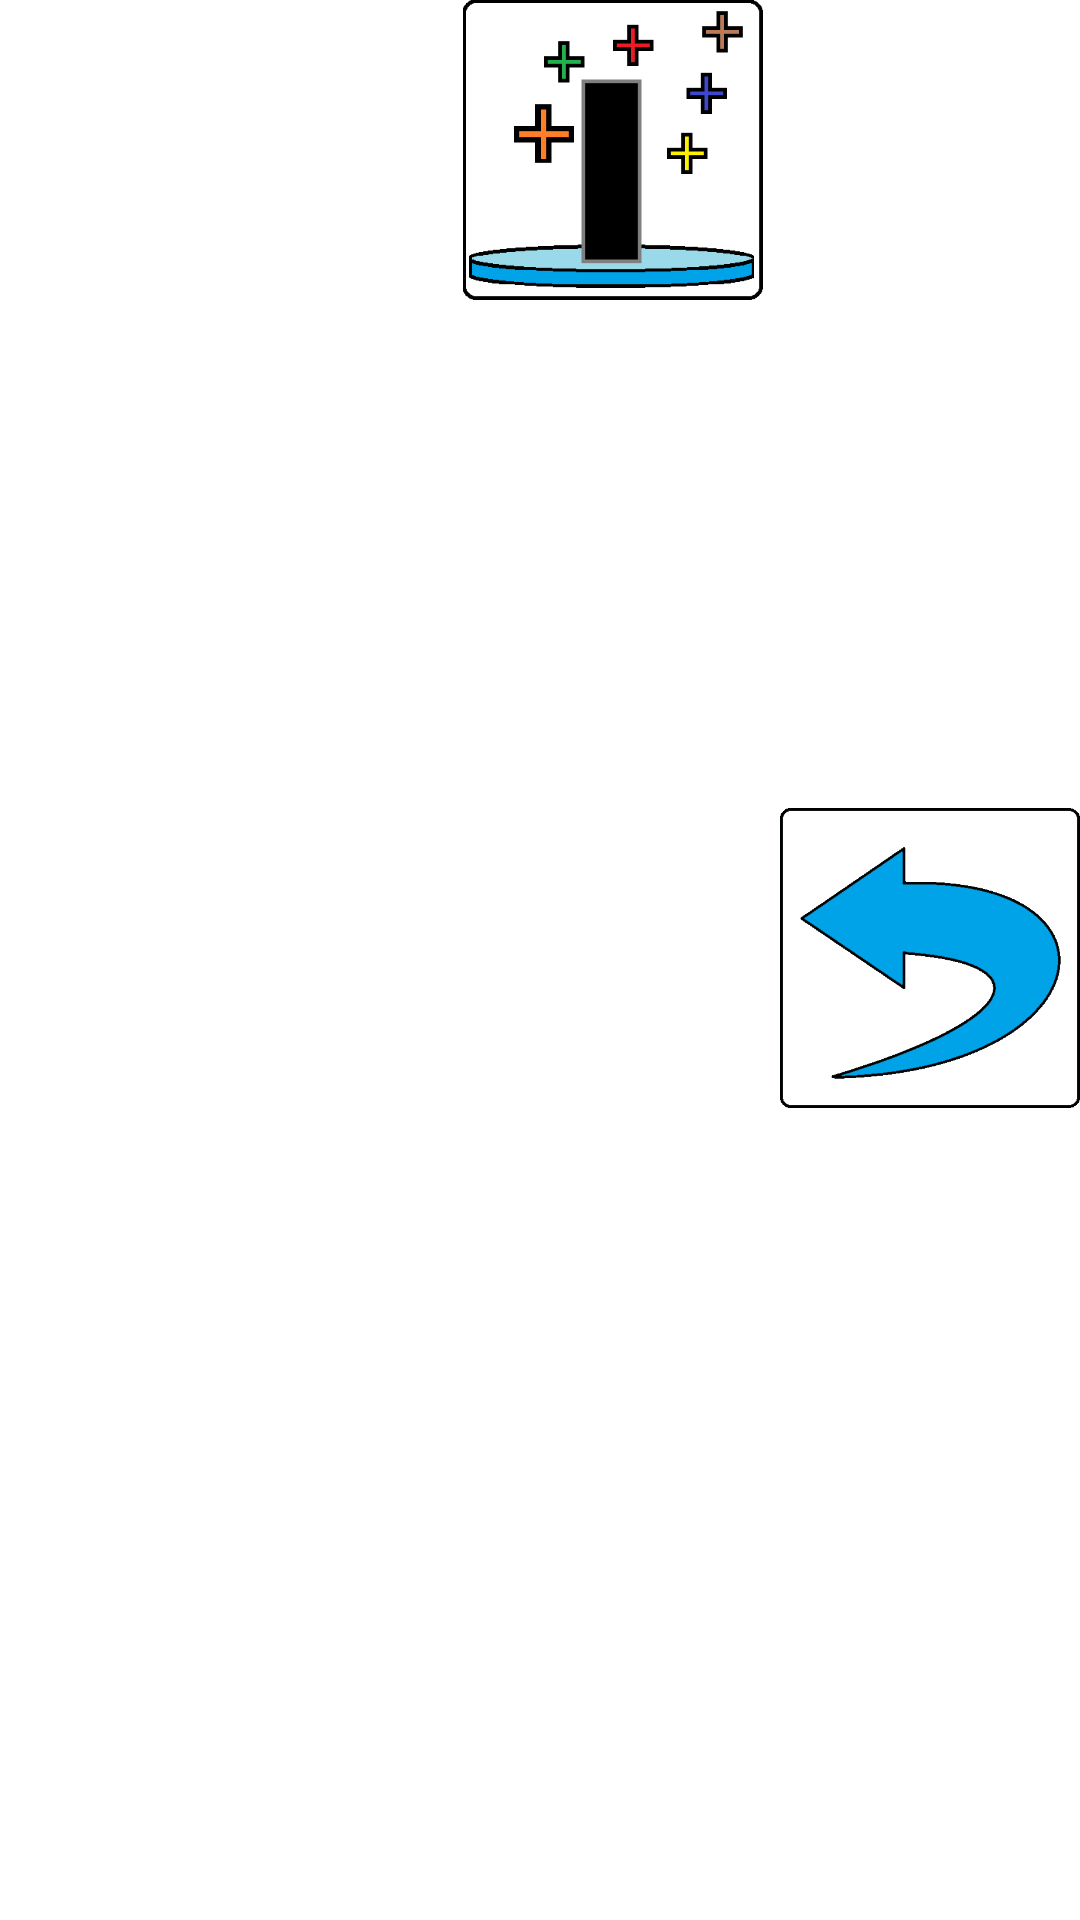

Screen size 1080 x 1920. Icon name, then its box in pixels as bbox=(x1, y1, x2, y2):
back: bbox=(780, 808, 1080, 1108)
